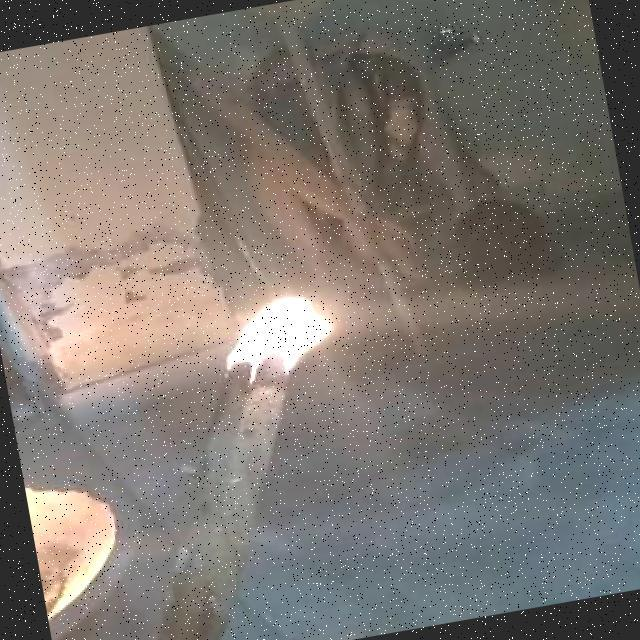Fire: (200, 272, 358, 397)
